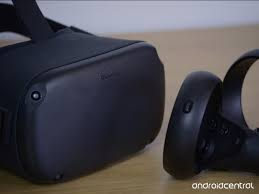oculus: (1, 29, 168, 179)
